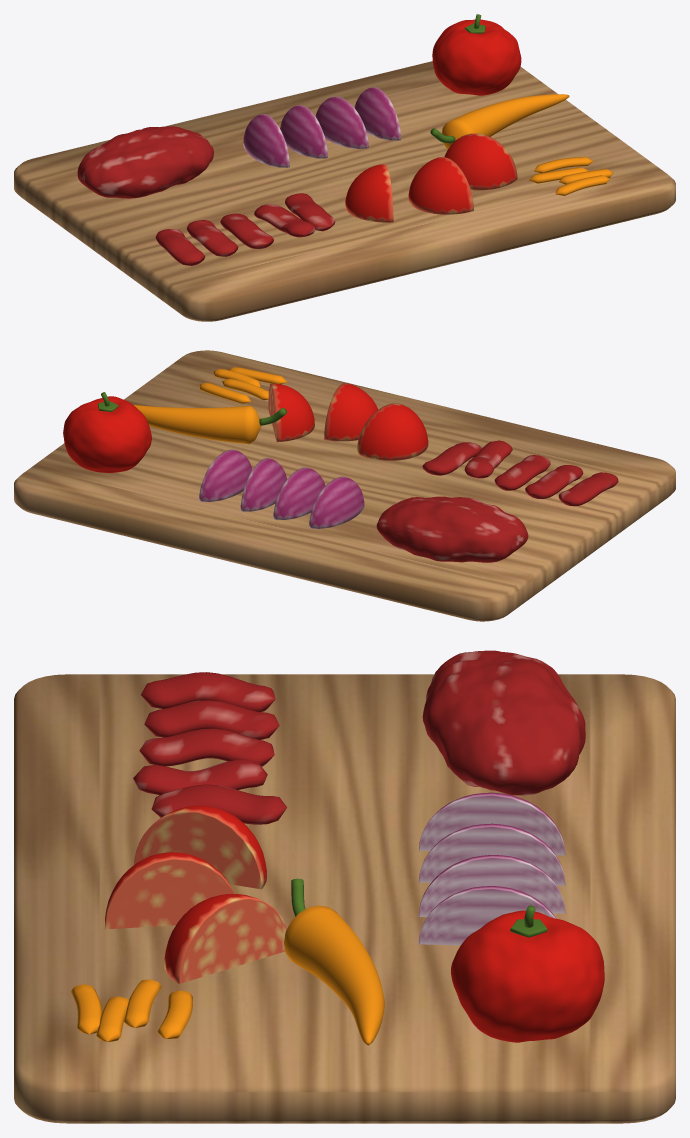
Rendered from paso-1.glb.
3 renders of one model, top to bottom at view 1: azimuth 30°, elevation 25°; view 2: azimuth 150°, elevation 25°; view 3: azimuth 270°, elevation 25°, orthographic. The views are drawn at different scales.
Visible parts, largest first — view 1: paso-1-0, paso-1-1, paso-1-14, paso-1-12, paso-1-13, paso-1-17, paso-1-11, paso-1-9, paso-1-8, paso-1-7, paso-1-10, paso-1-5 (+7 smaller); view 2: paso-1-0, paso-1-1, paso-1-14, paso-1-17, paso-1-11, paso-1-12, paso-1-7, paso-1-13, paso-1-10, paso-1-8, paso-1-9, paso-1-2 (+7 smaller); view 3: paso-1-0, paso-1-1, paso-1-14, paso-1-13, paso-1-17, paso-1-12, paso-1-11, paso-1-8, paso-1-7, paso-1-9, paso-1-10, paso-1-4 (+8 smaller).
Boxes of the visible parts, x1,y1,x2,y2 form: paso-1-0: [14, 61, 675, 321]; paso-1-1: [77, 126, 213, 198]; paso-1-14: [432, 19, 521, 95]; paso-1-12: [408, 156, 473, 214]; paso-1-13: [444, 133, 517, 190]; paso-1-17: [441, 94, 569, 148]; paso-1-11: [345, 164, 393, 222]; paso-1-9: [315, 96, 368, 148]; paso-1-8: [280, 105, 327, 158]; paso-1-7: [243, 114, 289, 167]; paso-1-10: [354, 87, 400, 140]; paso-1-5: [254, 204, 315, 237]; paso-1-0: [14, 350, 675, 621]; paso-1-1: [376, 496, 528, 562]; paso-1-14: [63, 396, 151, 472]; paso-1-17: [134, 405, 261, 444]; paso-1-11: [356, 403, 428, 460]; paso-1-12: [324, 383, 378, 441]; paso-1-7: [309, 476, 364, 528]; paso-1-13: [268, 383, 314, 442]; paso-1-10: [199, 449, 252, 501]; paso-1-8: [273, 467, 325, 519]; paso-1-9: [240, 458, 287, 511]; paso-1-2: [558, 472, 618, 506]; paso-1-0: [14, 674, 675, 1123]; paso-1-1: [422, 650, 585, 795]; paso-1-14: [451, 910, 604, 1042]; paso-1-13: [164, 894, 286, 983]; paso-1-17: [284, 905, 384, 1045]; paso-1-12: [105, 852, 234, 929]; paso-1-11: [134, 805, 266, 889]; paso-1-8: [418, 823, 565, 885]; paso-1-7: [418, 792, 565, 855]; paso-1-9: [418, 855, 565, 916]; paso-1-10: [418, 886, 556, 945]; paso-1-4: [139, 728, 274, 766].
Bounding box in the file's own units: 0.4 × 0.0767 × 0.27.
Materials: 7 (1 with a texture image).
